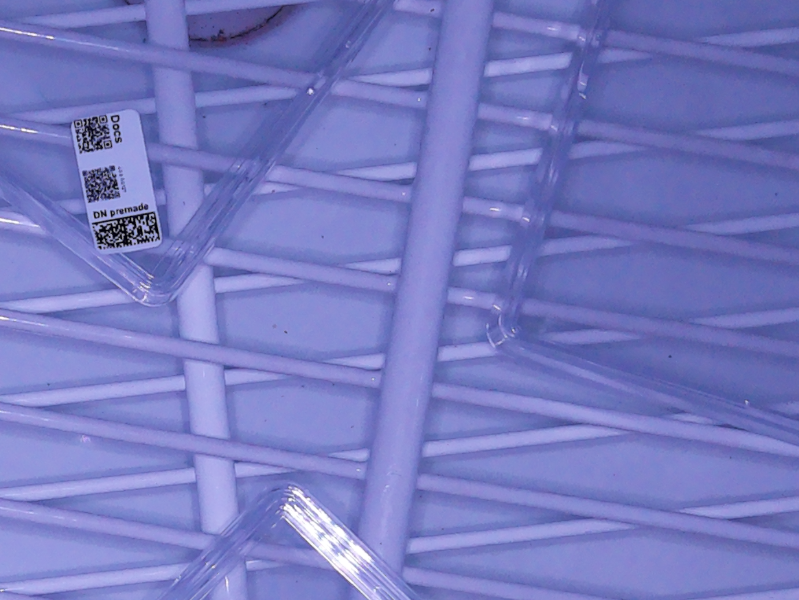plate: (483, 1, 799, 453), (1, 1, 399, 310), (161, 480, 416, 600)
